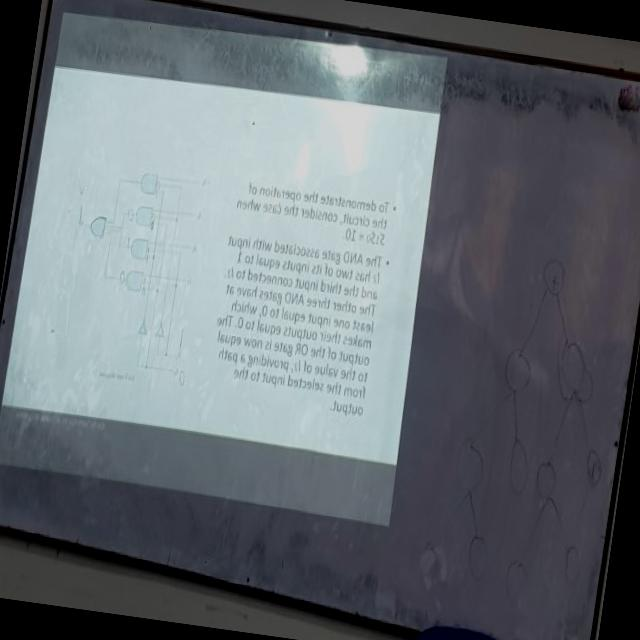Slide: (0, 15, 449, 527)
